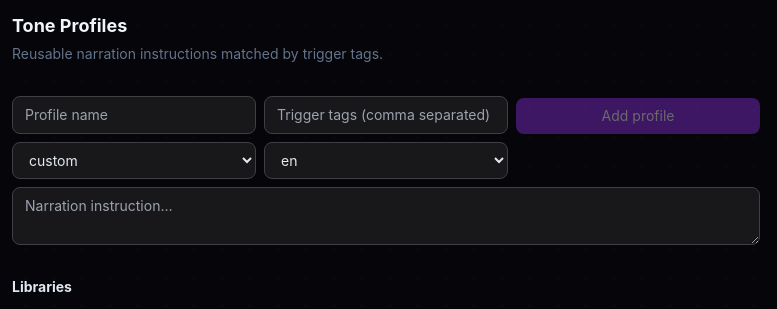
Test: ToneTab › does not suggest tags already present in the input (F3-4.3)
Type "grim, gri" into the field with placeholder "Trigger tags (comma separated)" at (386, 115), box [264,96,508,134]
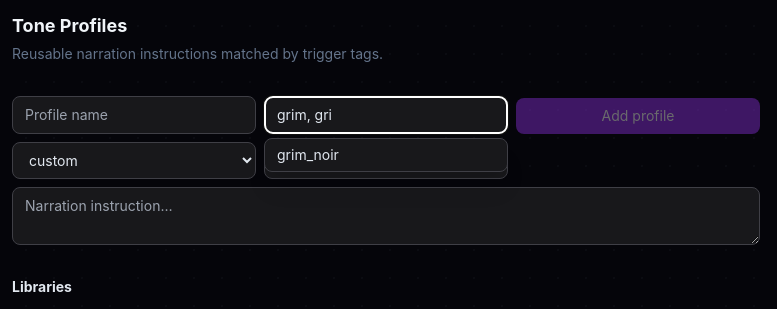
Check: the option "grim_noir" is shown, box [265,139,507,171]
